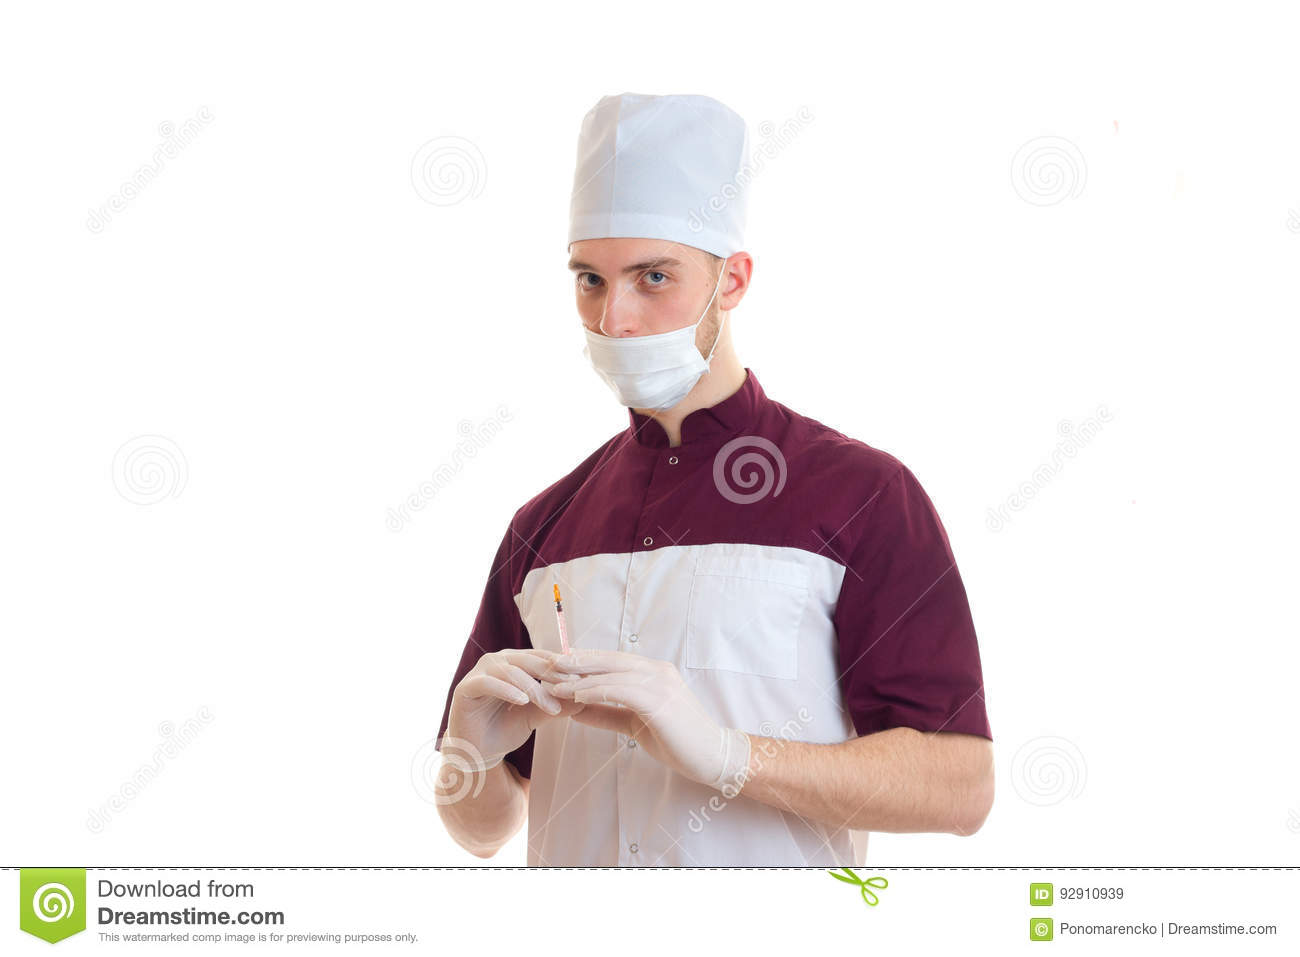mask: (564, 320, 728, 417)
